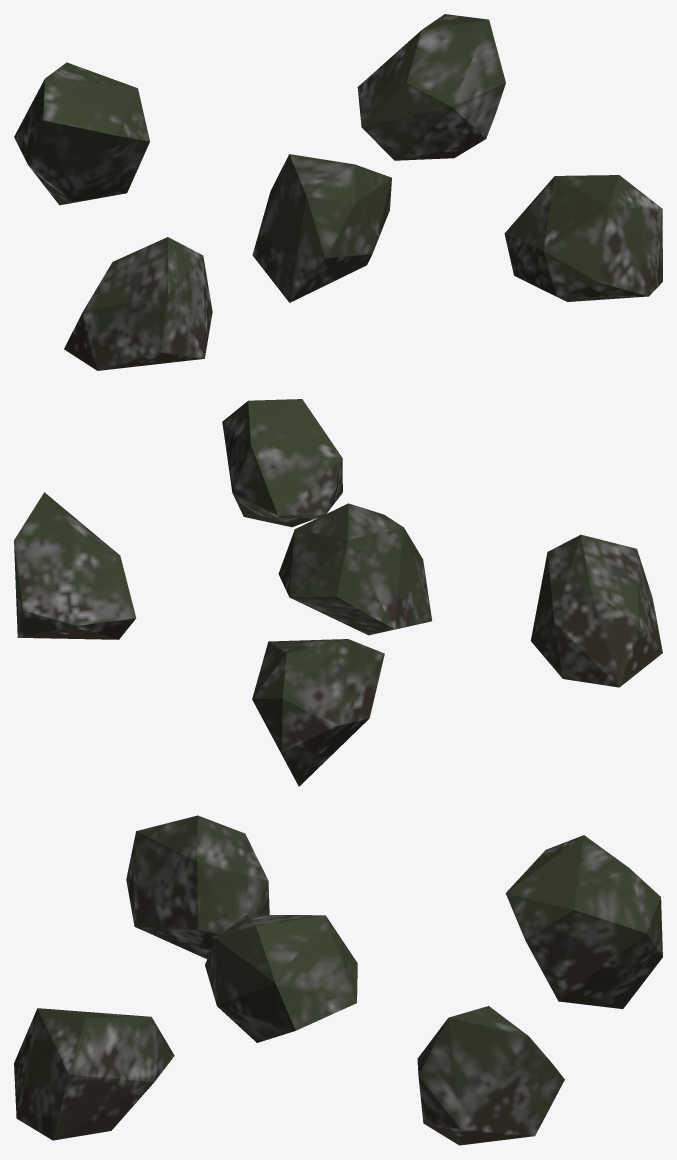
Rendered from Rock_Small.fbx.
3 renders of one model, top to bottom at view 1: azimuth 30°, elevation 25°; view 2: azimuth 150°, elevation 25°; view 3: azimuth 270°, elevation 25°, orthographic. The views are drawn at different scales.
Parts seen in each view (by area): view 1: Rock_Small; view 2: Rock_Small; view 3: Rock_Small.
Boxes of the visible parts, <box> form: Rock_Small: <box>14,14,662,370</box>; Rock_Small: <box>14,399,662,786</box>; Rock_Small: <box>14,815,662,1145</box>.
Size of the model in its own units: 105 by 30.55 by 105.
Materials: 1 (1 with a texture image).
